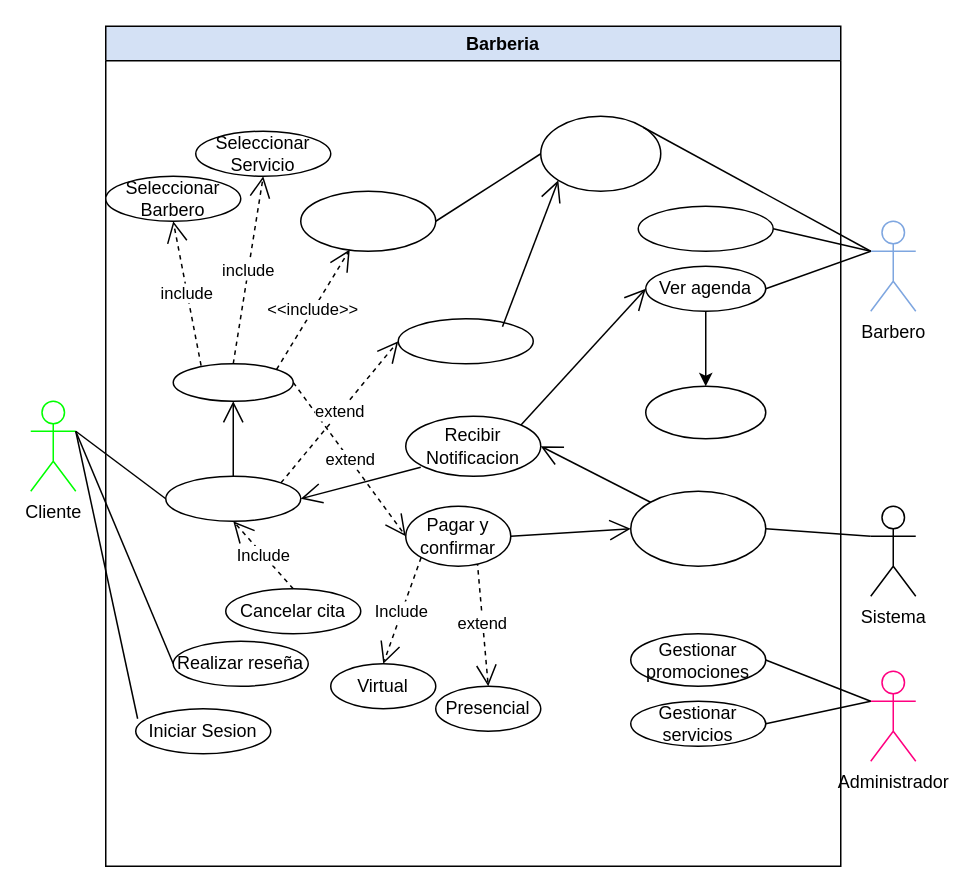
Image size: 975x893. Some labels were removed from this diagram. Here are the shapes that lost their labels. From the top down, the centre of each, then its label:
At point 600,153: "Actualizar disponibilidad".
At point 367,220: "Seleccionar Fecha y Hora".
At point 705,228: "Registrarse".
At point 465,340: "Reagendar cita".
At point 232,381: "Agendar cita".
At point 705,412: "Ver citas del dia".
At point 232,498: "Gestionar Cita".
At point 697,528: "Enviar notificación automática".
